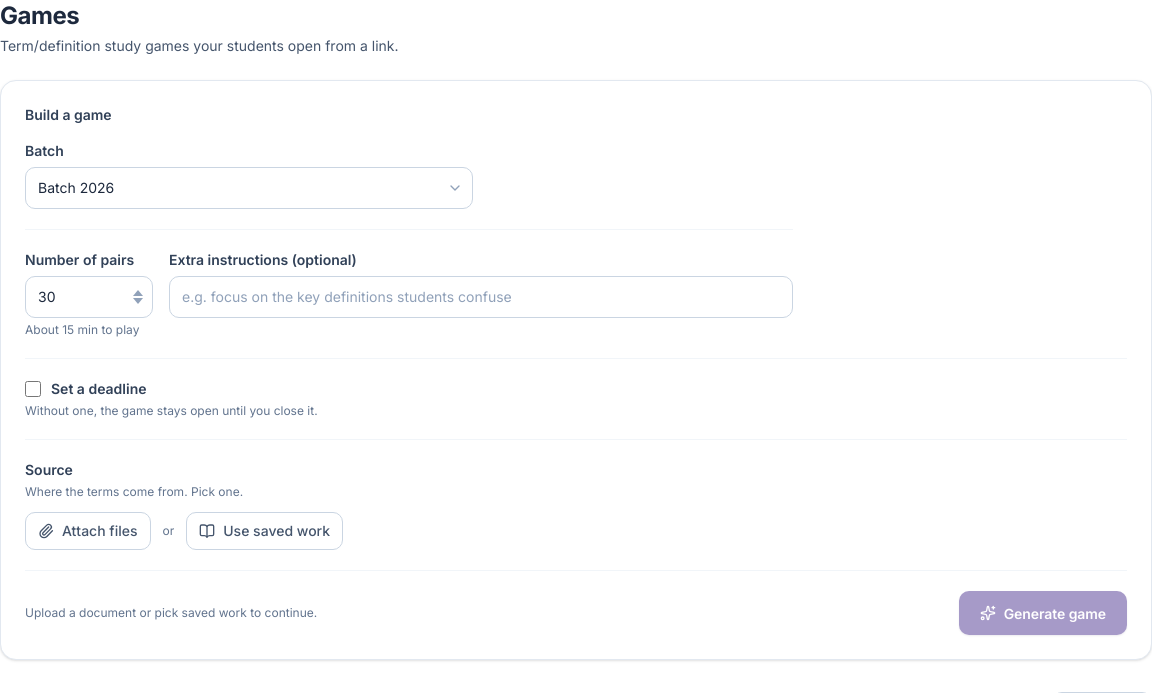
Test: Games — source picker › keeps the saved-work list out of the form until it is asked for
The width and height of the screenshot is (1152, 693).
Check: the text "Week 3 — Test Doubles" is not shown
Step 1. Click the button "Use saved work" → (265, 531), box [186,512,343,550]
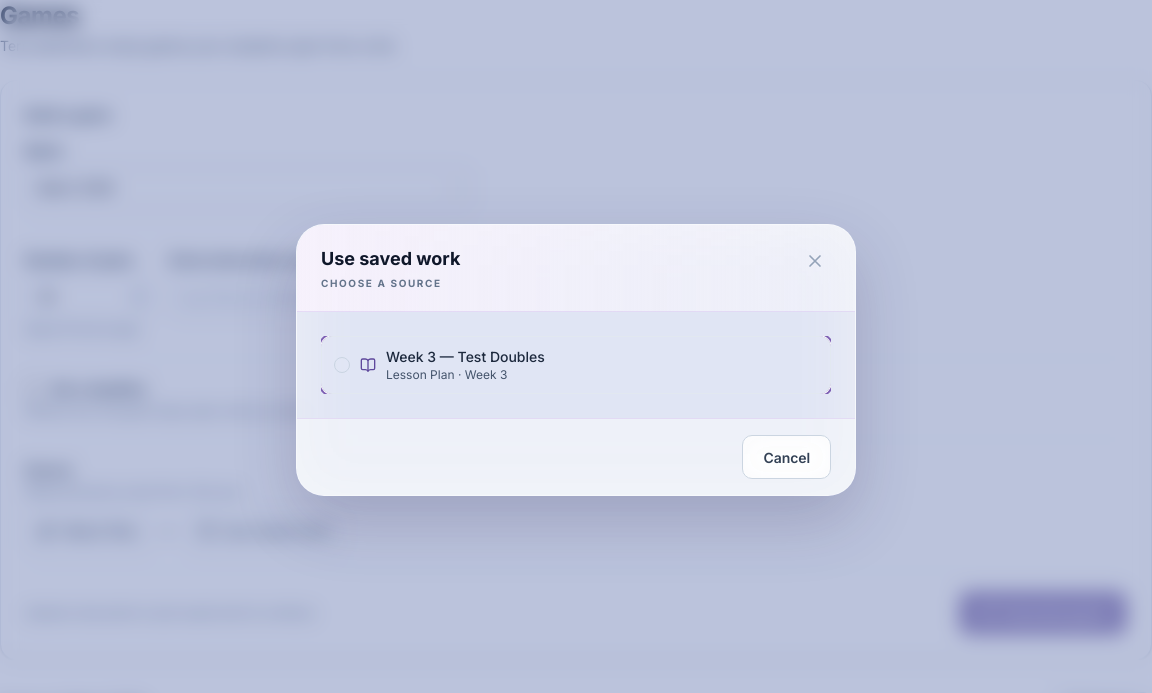
Check: the radio button labelled "Week 3 — Test Doubles Lesson Plan · Week 3" is shown, box [321,336,831,394]
